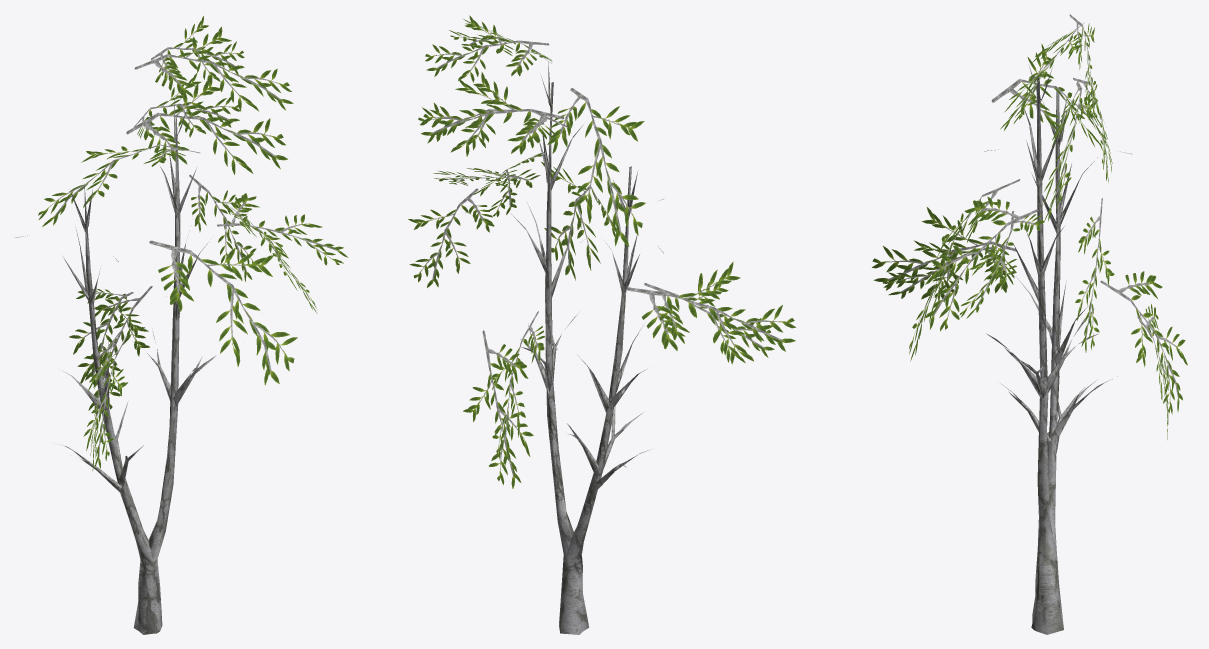
Rendered from betula_lod.gltf.
3 renders of one model, left to right at view 1: azimuth 30°, elevation 25°; view 2: azimuth 150°, elevation 25°; view 3: azimuth 270°, elevation 25°, orthographic. The views are drawn at different scales.
Parts seen in each view (by area): view 1: betula_lod; view 2: betula_lod; view 3: betula_lod.
Part boxes in pixels (bbox=[...]): betula_lod: bbox=[15, 16, 348, 634]; betula_lod: bbox=[408, 15, 795, 634]; betula_lod: bbox=[872, 14, 1187, 634].
Bounding box in the file's own units: 7.87 × 13.31 × 6.48.
Materials: 2 (2 with a texture image).
